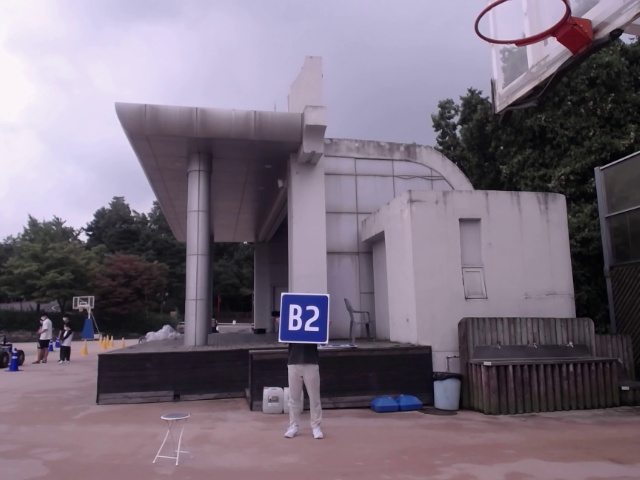delivery_b2: (281, 292, 330, 343)
